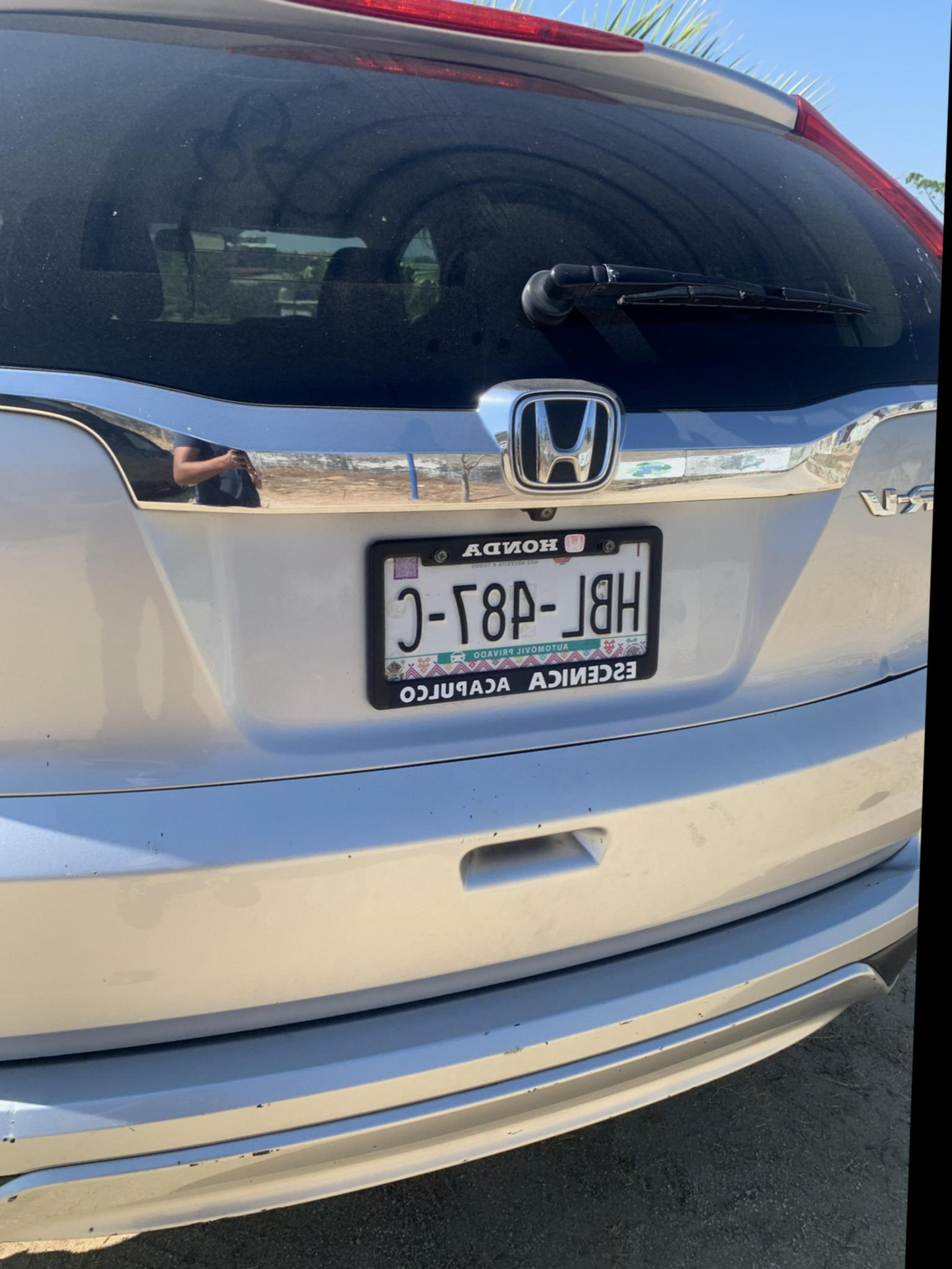License_Plate: (340, 519, 688, 727)
